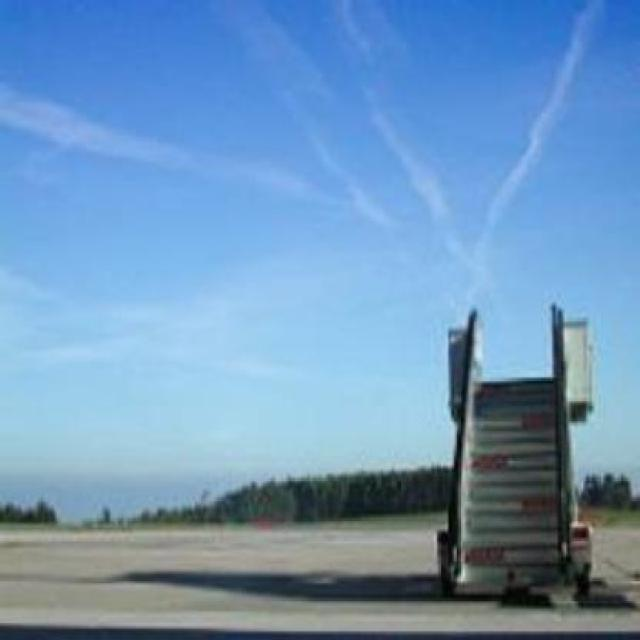stair: (466, 372, 565, 594)
